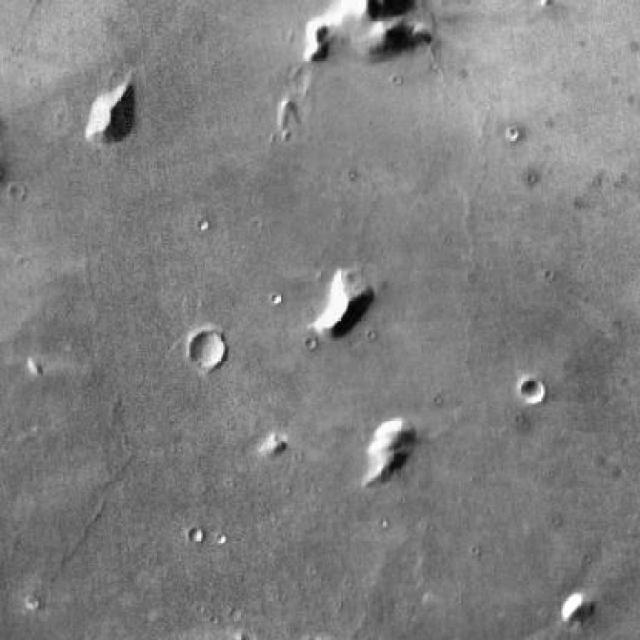crater: (194, 332, 229, 368), (522, 380, 544, 402), (188, 528, 204, 543)
